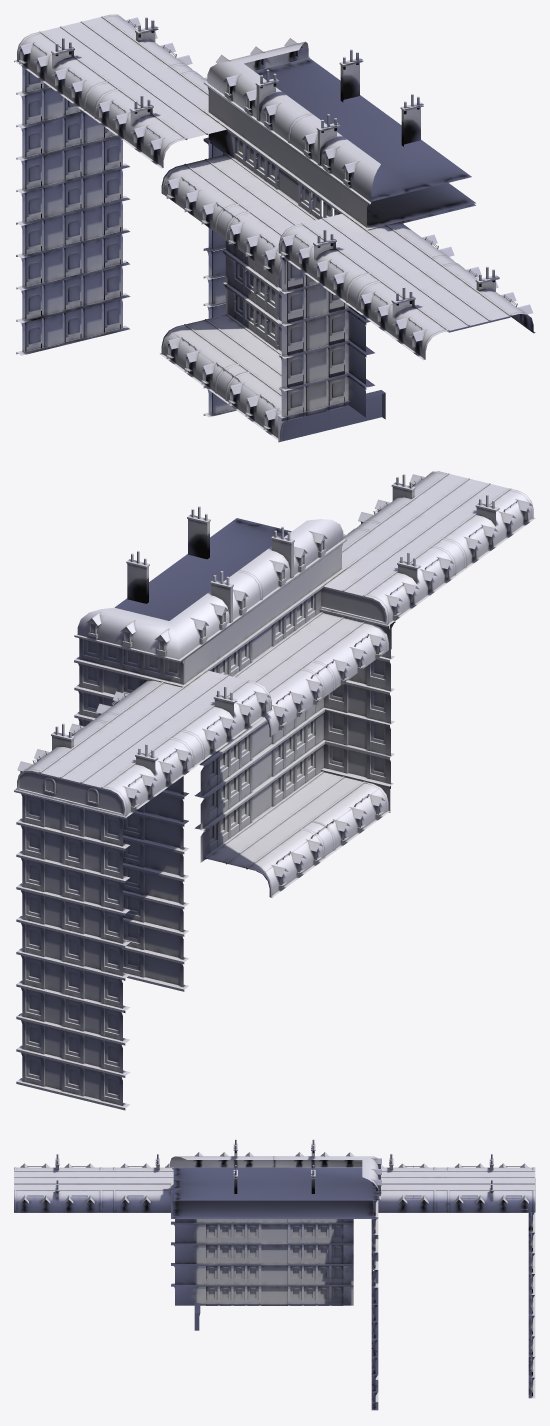
The model's file is Rooftop_Chunk_03_Drop.FBX.
3 renders of one model, top to bottom at view 1: azimuth 30°, elevation 25°; view 2: azimuth 150°, elevation 25°; view 3: azimuth 270°, elevation 25°, orthographic. The views are drawn at different scales.
Visible parts, largest first — view 1: Rooftop_Chunk_03, Rooftop_Chunk_03_Wall_Front, Rooftop_Chunk_03_Road, Drop_Death_Wall_Front, Drop_Ramp001, Drop_Ramp, Drop_Ramp_Road, Rooftop_Chunk_03_WallRun, Drop_Ramp_Road001; view 2: Rooftop_Chunk_03, Rooftop_Chunk_03_Wall_Front, Drop_Death_Wall_Front, Rooftop_Chunk_03_Road, Drop_Ramp001, Drop_Ramp_Road001, Drop_Ramp, Drop_Ramp_Road, Rooftop_Chunk_03_WallRun; view 3: Rooftop_Chunk_03, Drop_Death_Wall_Front, Rooftop_Chunk_03_Road, Rooftop_Chunk_03_Wall_Front.
Boxes of the visible parts, x1,y1,x2,y2 form: Rooftop_Chunk_03: [14, 14, 535, 360]; Rooftop_Chunk_03_Wall_Front: [16, 67, 312, 417]; Rooftop_Chunk_03_Road: [39, 16, 511, 332]; Drop_Death_Wall_Front: [223, 152, 385, 442]; Drop_Ramp001: [160, 325, 285, 440]; Drop_Ramp: [161, 164, 285, 284]; Drop_Ramp_Road: [184, 153, 317, 235]; Rooftop_Chunk_03_WallRun: [209, 88, 365, 226]; Drop_Ramp_Road001: [184, 314, 281, 395]; Rooftop_Chunk_03: [14, 471, 535, 819]; Rooftop_Chunk_03_Wall_Front: [16, 691, 188, 1110]; Drop_Death_Wall_Front: [194, 626, 394, 862]; Rooftop_Chunk_03_Road: [39, 473, 511, 789]; Drop_Ramp001: [247, 782, 390, 897]; Drop_Ramp_Road001: [204, 771, 365, 869]; Drop_Ramp: [264, 611, 395, 736]; Drop_Ramp_Road: [232, 611, 364, 692]; Rooftop_Chunk_03_WallRun: [184, 545, 340, 683]; Rooftop_Chunk_03: [14, 1139, 535, 1234]; Drop_Death_Wall_Front: [171, 1219, 353, 1330]; Rooftop_Chunk_03_Road: [14, 1170, 535, 1190]; Rooftop_Chunk_03_Wall_Front: [371, 1213, 535, 1410].
Bounding box in the file's own units: 113 × 238 × 451.
